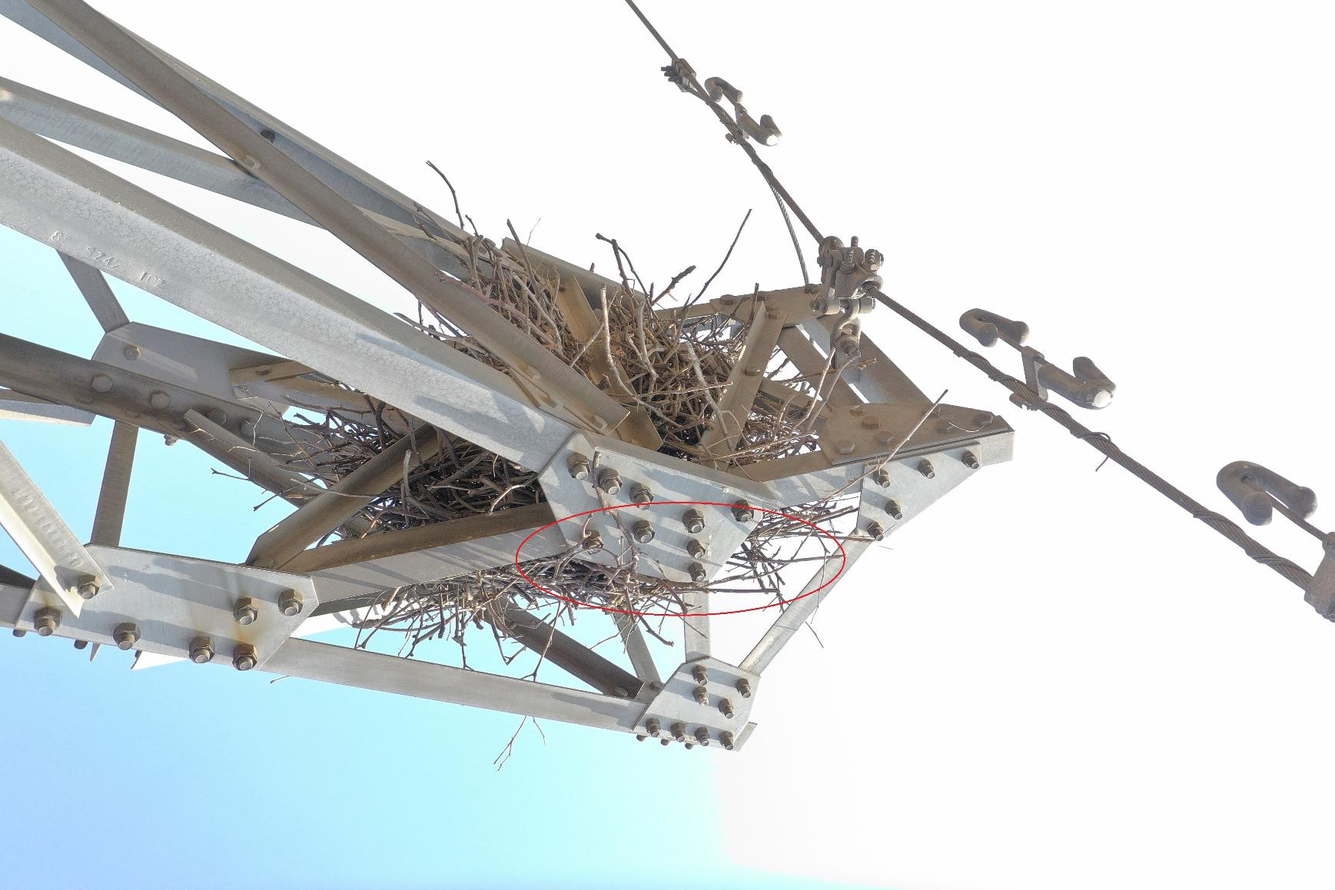damper: (951, 301, 1126, 417), (699, 69, 785, 154)
nest: (254, 214, 845, 654)
